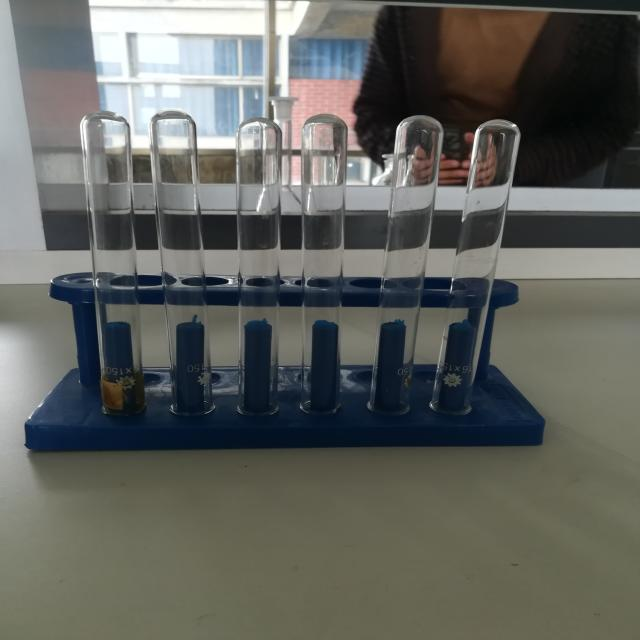Test_Tube: (52, 63, 550, 439)
